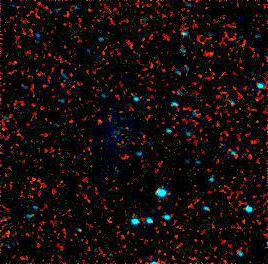star: (85, 102, 115, 132)
